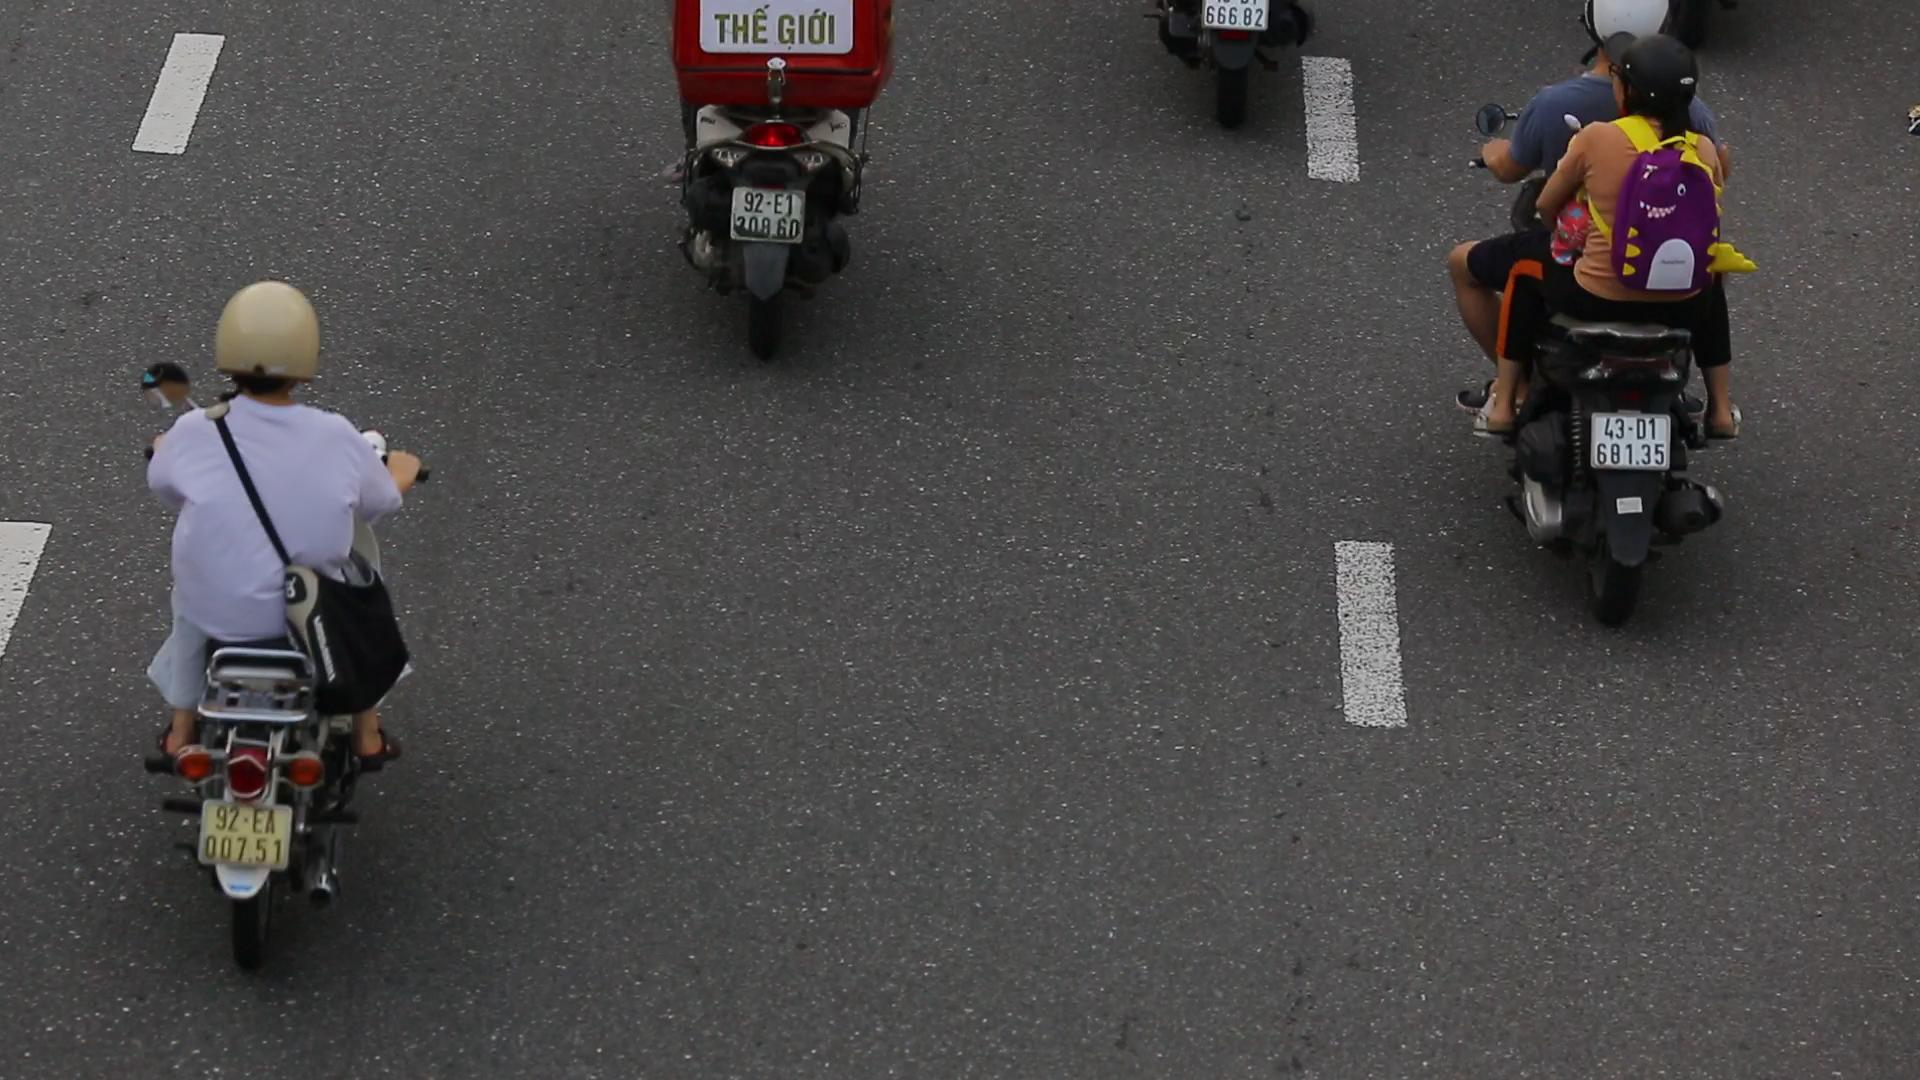motobike: (111, 276, 434, 960)
